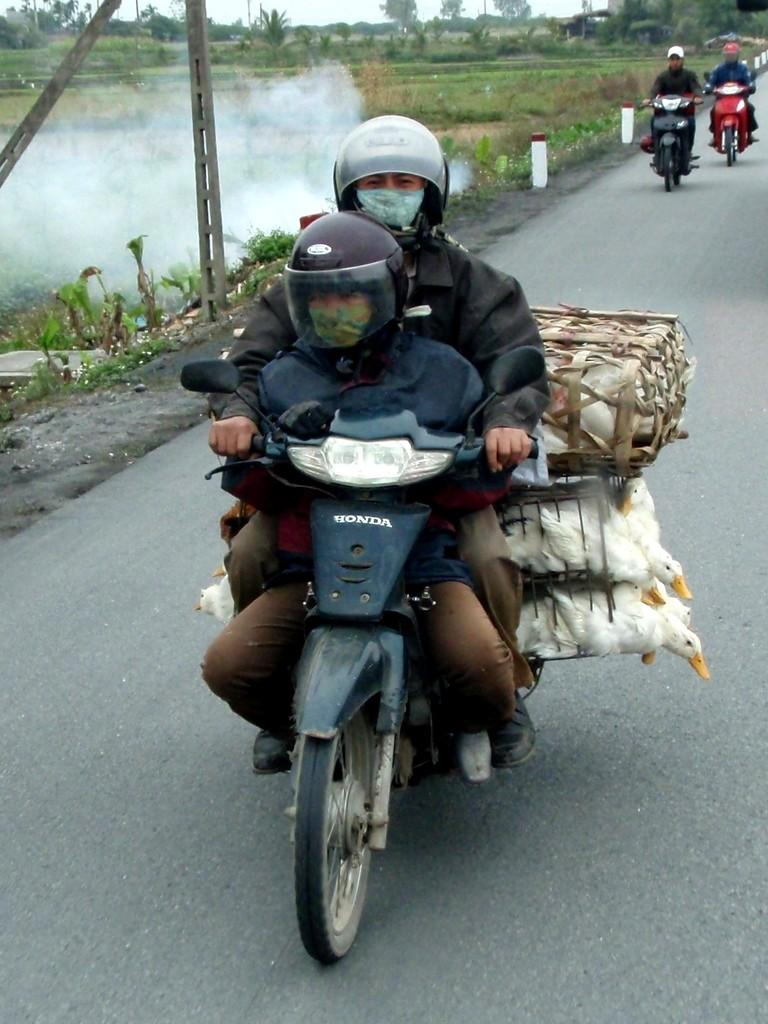helmet: (283, 212, 409, 362), (333, 114, 450, 245)
nohelmet: (666, 45, 685, 74), (722, 42, 741, 66)
